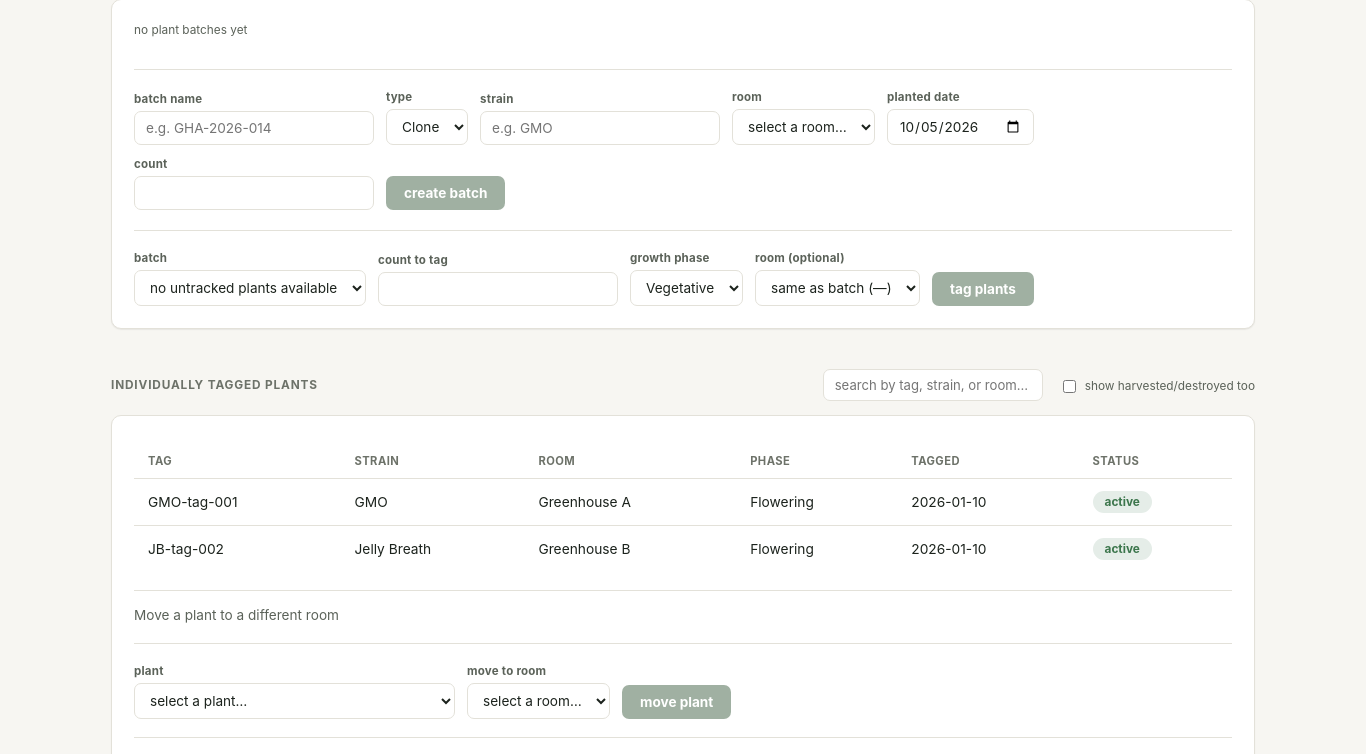
PlantsBatches — plant search › filters by tag
(page scrolled)
Expected: the text "GMO-tag-001" is shown, [134,478,340,525]
In the field with placeholder "search by tag, strain, or room…": (933, 385) [823,369,1043,401], type "JB-tag"
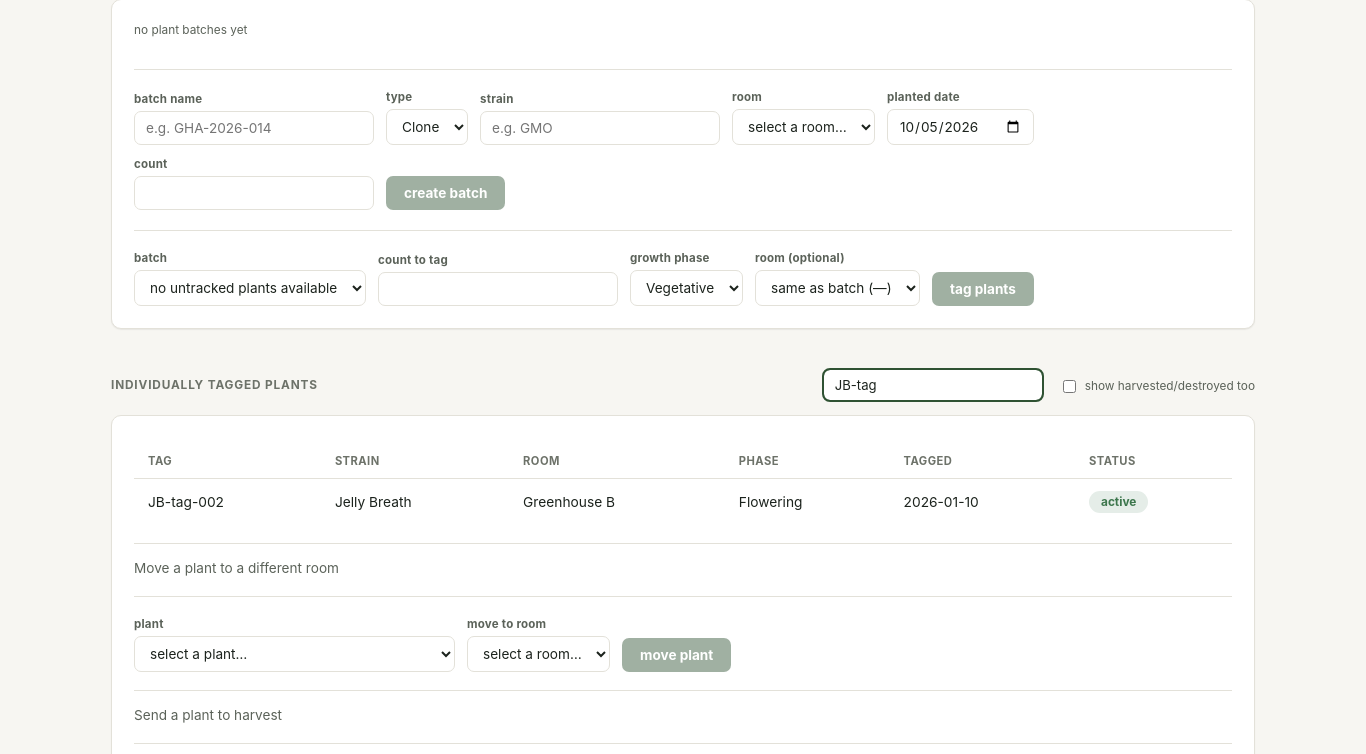
Expected: the text "JB-tag-002" is shown, [134,478,321,525]
Expected: the text "GMO-tag-001" is gone
